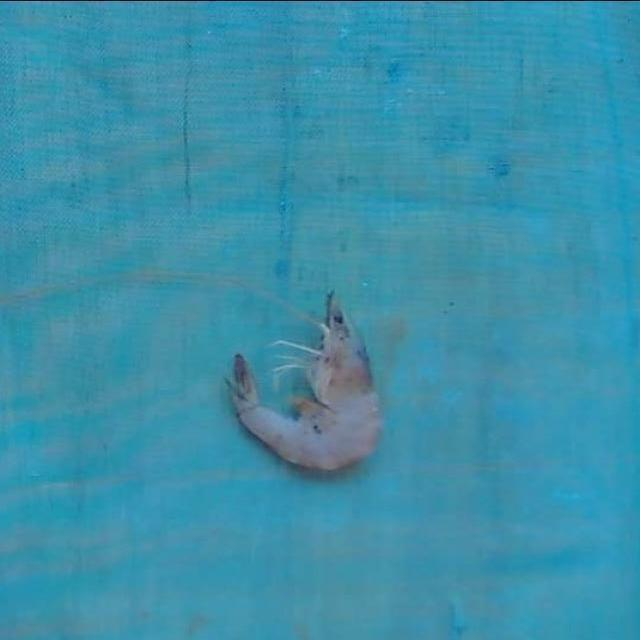shrimp: (233, 294, 381, 469)
